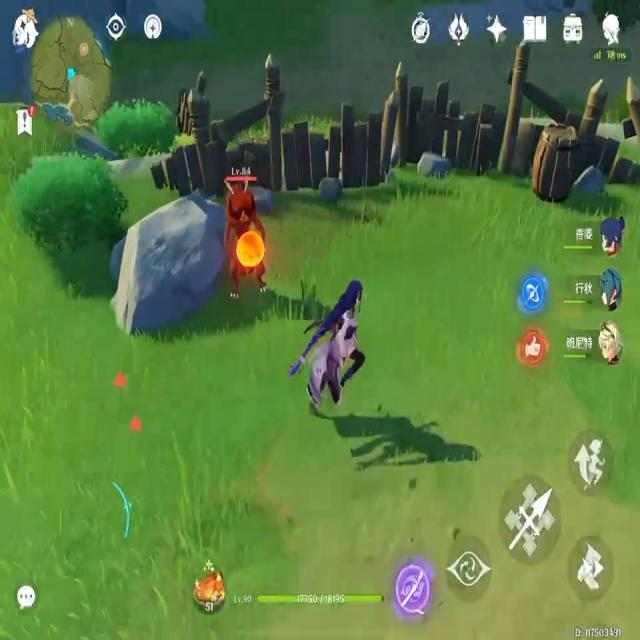genshin-hilichurls: (221, 169, 273, 305)
